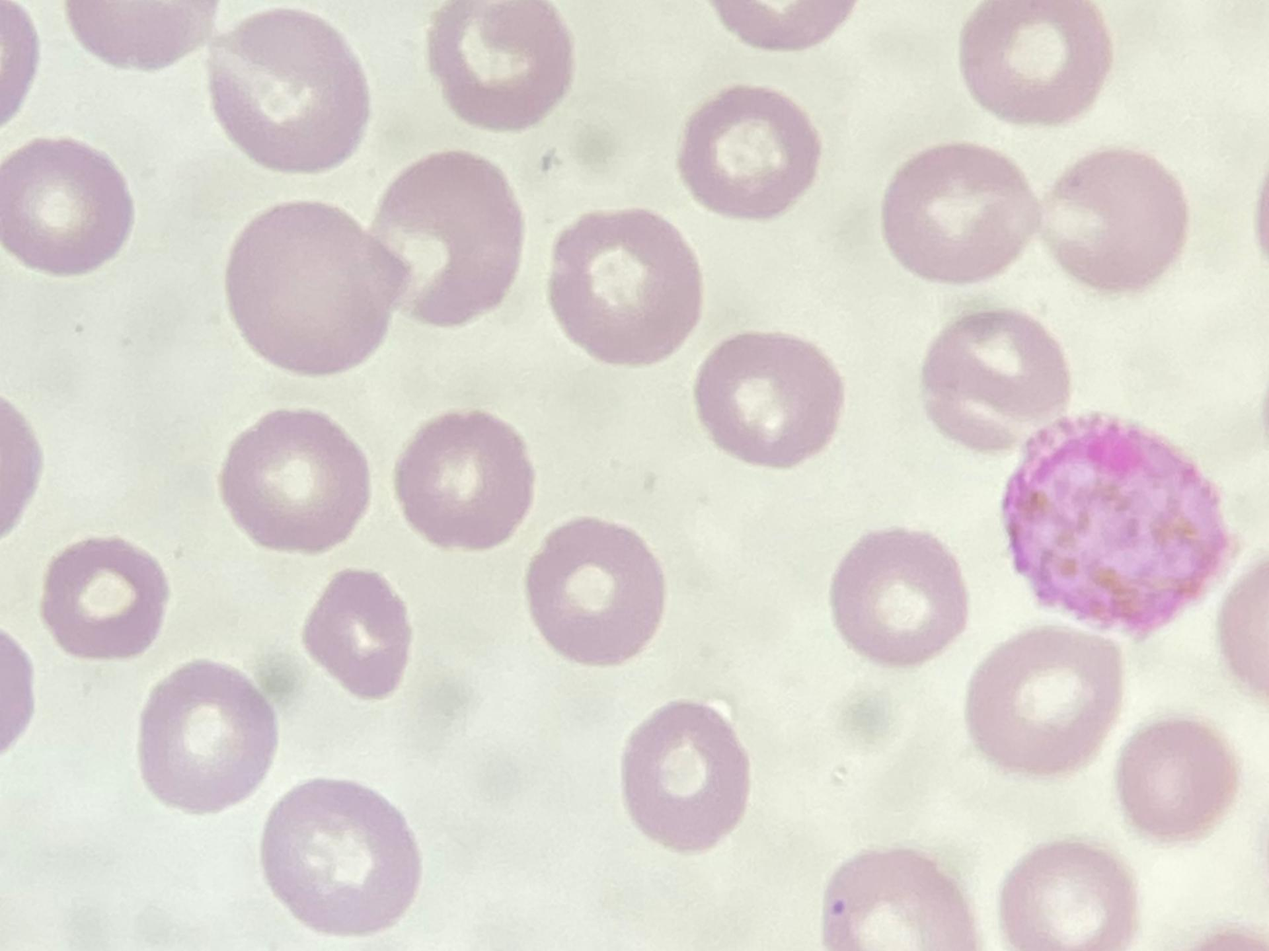Infected: (1005, 408, 1235, 633)
Uninfected: (223, 202, 406, 375), (212, 9, 371, 172), (375, 155, 526, 326), (551, 208, 705, 370), (261, 779, 418, 932), (964, 628, 1120, 775), (883, 143, 1037, 282), (220, 410, 370, 552), (918, 310, 1069, 447), (138, 663, 275, 811), (526, 519, 664, 664), (1048, 149, 1187, 291), (695, 332, 839, 465), (395, 410, 532, 549), (830, 528, 969, 664), (621, 703, 748, 851), (429, 1, 572, 130), (681, 86, 820, 217), (963, 0, 1108, 124), (3, 137, 134, 274), (40, 537, 169, 659), (824, 849, 972, 948), (303, 569, 414, 699), (999, 842, 1132, 948), (1115, 718, 1231, 839)
